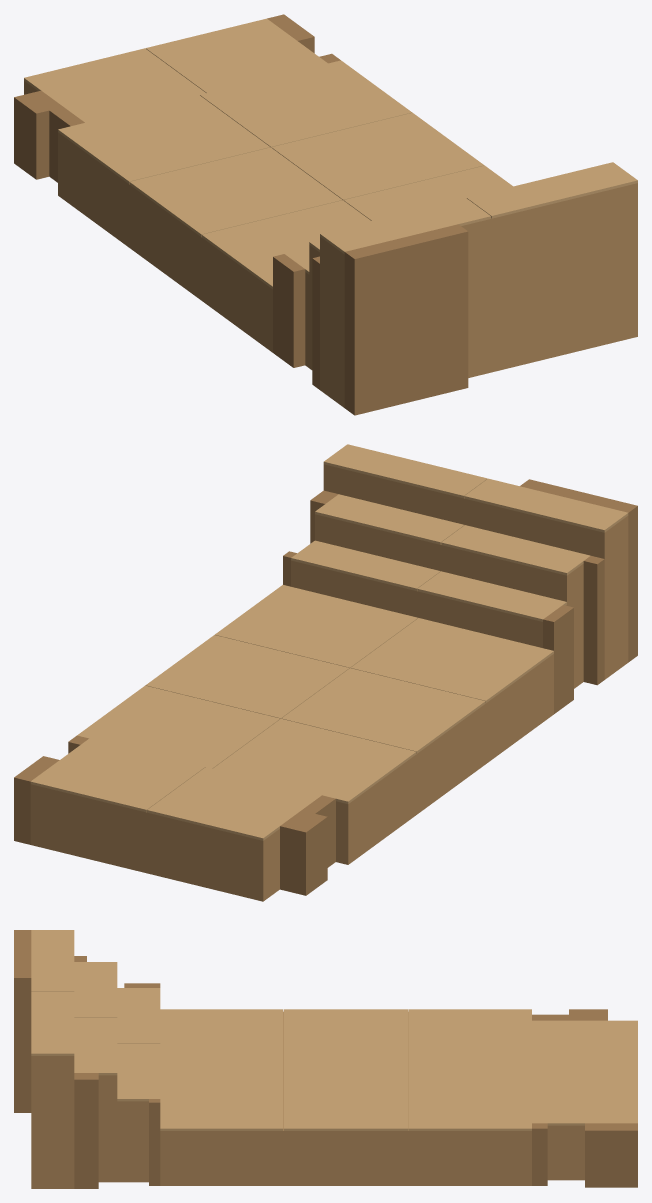
File: giuong_cau_thang.obj
3 views of the same model, one above another, from view 1: azimuth 30°, elevation 25°; view 2: azimuth 150°, elevation 25°; view 3: azimuth 270°, elevation 25° (orthographic). The views are drawn at different scales.
Parts seen in each view (by area): view 1: 01_Bac_1_204x30_cao104, 02_Bac_1_lap_79x12_cao104, 09_Giuong_chinh_197x259_cao44, 09_Giuong_chinh_nap_2, 09_Giuong_chinh_nap_3, 09_Giuong_chinh_nap_5, 09_Giuong_chinh_nap_6, 10_Dau_giuong_nap_1, 10_Dau_giuong_nap_2, 09_Giuong_chinh_nap_1, 01_Bac_1_nap_2, 09_Giuong_chinh_nap_4 (+6 smaller); view 2: 10_Dau_giuong_169x74_cao44, 09_Giuong_chinh_197x259_cao44, 01_Bac_1_204x30_cao104, 09_Giuong_chinh_nap_2, 09_Giuong_chinh_nap_1, 09_Giuong_chinh_nap_3, 09_Giuong_chinh_nap_5, 09_Giuong_chinh_nap_4, 09_Giuong_chinh_nap_6, 03_Bac_2_183x30_cao84, 10_Dau_giuong_nap_1, 10_Dau_giuong_nap_2 (+13 smaller); view 3: 09_Giuong_chinh_197x259_cao44, 09_Giuong_chinh_nap_5, 09_Giuong_chinh_nap_4, 09_Giuong_chinh_nap_6, 09_Giuong_chinh_nap_2, 09_Giuong_chinh_nap_1, 09_Giuong_chinh_nap_3, 01_Bac_1_204x30_cao104, 10_Dau_giuong_nap_2, 10_Dau_giuong_nap_1, 14_Dau_giuong_lap_oc_2_12x37_cao44, 02_Bac_1_lap_79x12_cao104 (+13 smaller).
Part boxes in pixels (x1,y1,x2,y2): 01_Bac_1_204x30_cao104: [320, 183, 637, 407]; 02_Bac_1_lap_79x12_cao104: [344, 224, 468, 415]; 09_Giuong_chinh_197x259_cao44: [58, 132, 272, 352]; 09_Giuong_chinh_nap_2: [129, 147, 342, 236]; 09_Giuong_chinh_nap_3: [58, 95, 270, 184]; 09_Giuong_chinh_nap_5: [271, 112, 484, 200]; 09_Giuong_chinh_nap_6: [200, 60, 412, 147]; 10_Dau_giuong_nap_1: [24, 48, 205, 122]; 10_Dau_giuong_nap_2: [145, 18, 327, 92]; 09_Giuong_chinh_nap_1: [201, 200, 370, 289]; 01_Bac_1_nap_2: [467, 162, 637, 218]; 09_Giuong_chinh_nap_4: [343, 165, 512, 220]; 10_Dau_giuong_169x74_cao44: [30, 784, 279, 901]; 09_Giuong_chinh_197x259_cao44: [336, 654, 553, 864]; 01_Bac_1_204x30_cao104: [323, 464, 628, 679]; 09_Giuong_chinh_nap_2: [281, 668, 485, 753]; 09_Giuong_chinh_nap_1: [351, 618, 553, 702]; 09_Giuong_chinh_nap_3: [213, 718, 416, 803]; 09_Giuong_chinh_nap_5: [145, 635, 349, 718]; 09_Giuong_chinh_nap_4: [215, 585, 417, 667]; 09_Giuong_chinh_nap_6: [77, 685, 280, 768]; 03_Bac_2_183x30_cao84: [315, 514, 583, 688]; 10_Dau_giuong_nap_1: [147, 767, 321, 840]; 10_Dau_giuong_nap_2: [30, 738, 205, 812]; 09_Giuong_chinh_197x259_cao44: [160, 1011, 531, 1185]; 09_Giuong_chinh_nap_5: [284, 1069, 408, 1130]; 09_Giuong_chinh_nap_4: [160, 1069, 283, 1130]; 09_Giuong_chinh_nap_6: [408, 1069, 531, 1130]; 09_Giuong_chinh_nap_2: [284, 1009, 408, 1068]; 09_Giuong_chinh_nap_1: [160, 1009, 283, 1068]; 09_Giuong_chinh_nap_3: [408, 1009, 531, 1068]; 01_Bac_1_204x30_cao104: [31, 1056, 74, 1188]; 10_Dau_giuong_nap_2: [532, 1072, 637, 1125]; 10_Dau_giuong_nap_1: [532, 1020, 637, 1071]; 14_Dau_giuong_lap_oc_2_12x37_cao44: [585, 1123, 637, 1187]; 02_Bac_1_lap_79x12_cao104: [14, 930, 31, 1112].
Bounding box in the file's own units: 2.04 × 1.04 × 4.35.
